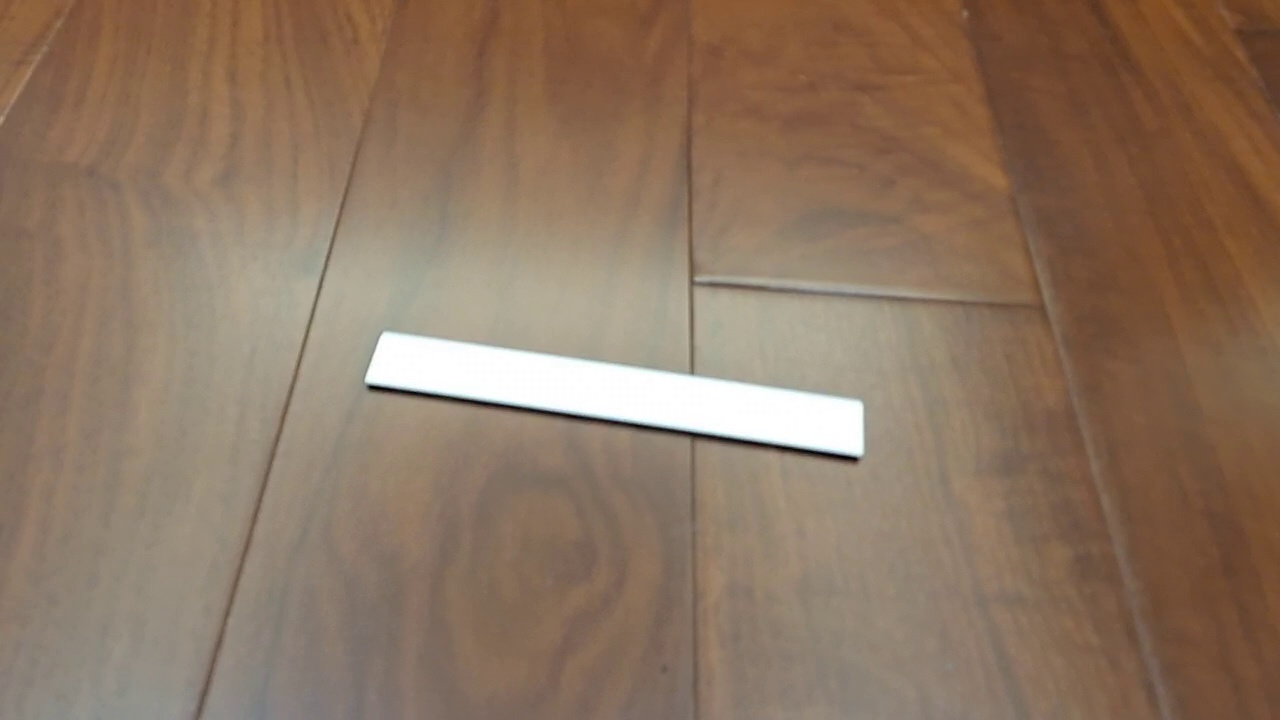ruler: (362, 329, 866, 462)
